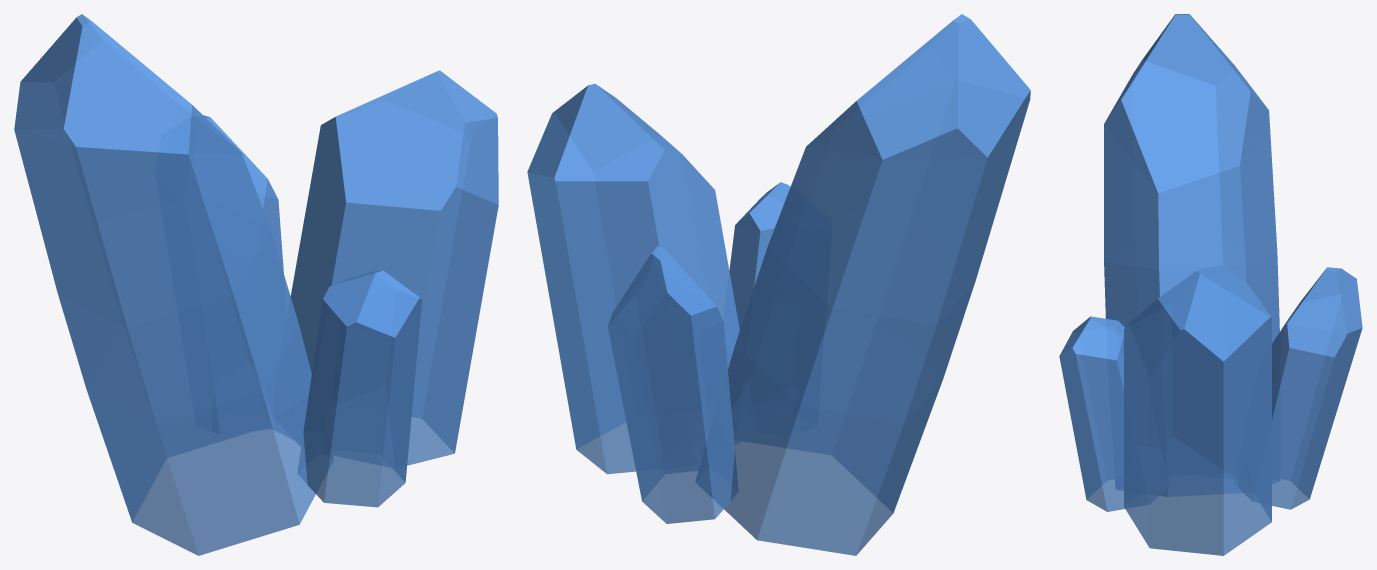
The model's file is Crystals_l_04.fbx.
3 views of the same model, side by side, from view 1: azimuth 30°, elevation 25°; view 2: azimuth 150°, elevation 25°; view 3: azimuth 270°, elevation 25° (orthographic). The views are drawn at different scales.
Visible parts, largest first — view 1: Crystals_l_04; view 2: Crystals_l_04; view 3: Crystals_l_04.
Part boxes in pixels (box(x1,y1,x2,y2)): Crystals_l_04: box(14, 14, 498, 555); Crystals_l_04: box(527, 14, 1030, 555); Crystals_l_04: box(1059, 14, 1362, 555).
Bounding box in the file's own units: 337 × 379 × 242.
